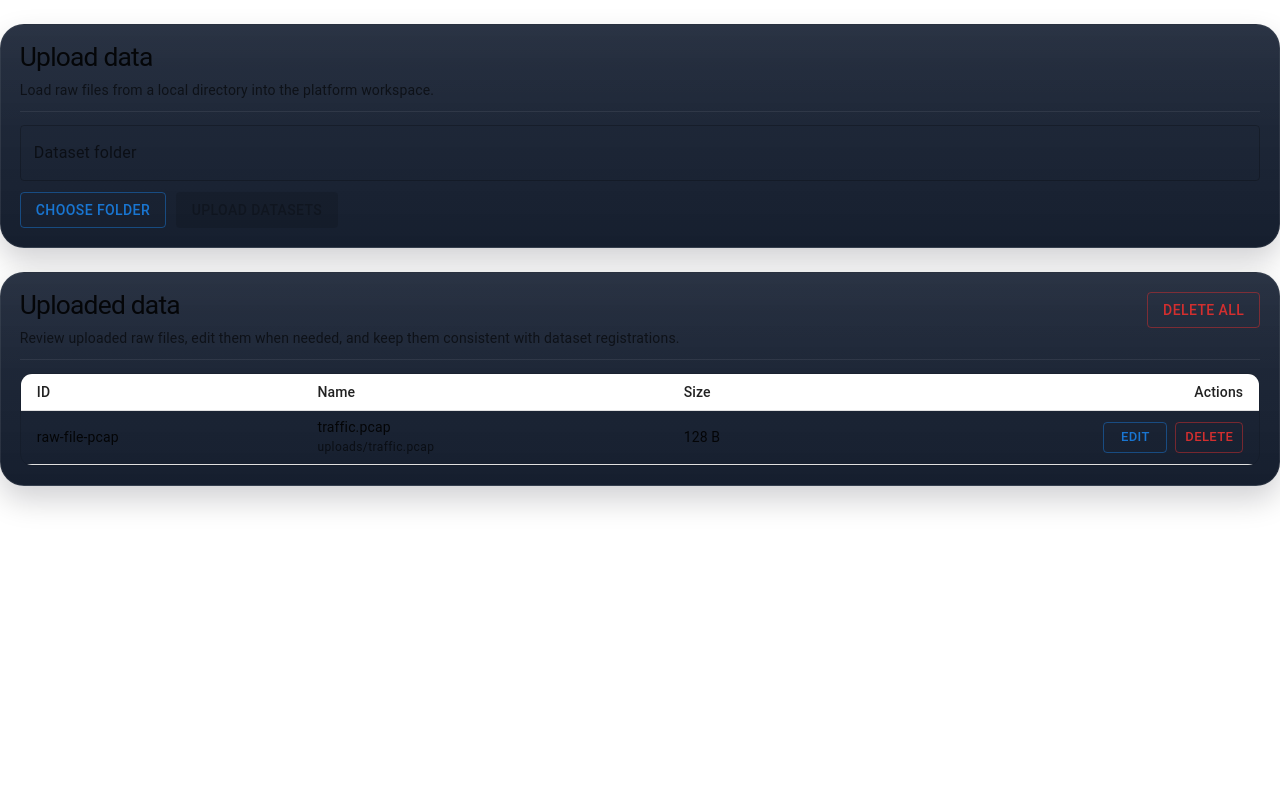
Test: DatasetsPage › opens a read-only editor for pcap files
The image size is (1280, 800).
What coordinates should you click on to do the following:
click the button "Edit"
I would click on:
 (1135, 437)
Its box is x1=1103 y1=422 x2=1167 y2=453.
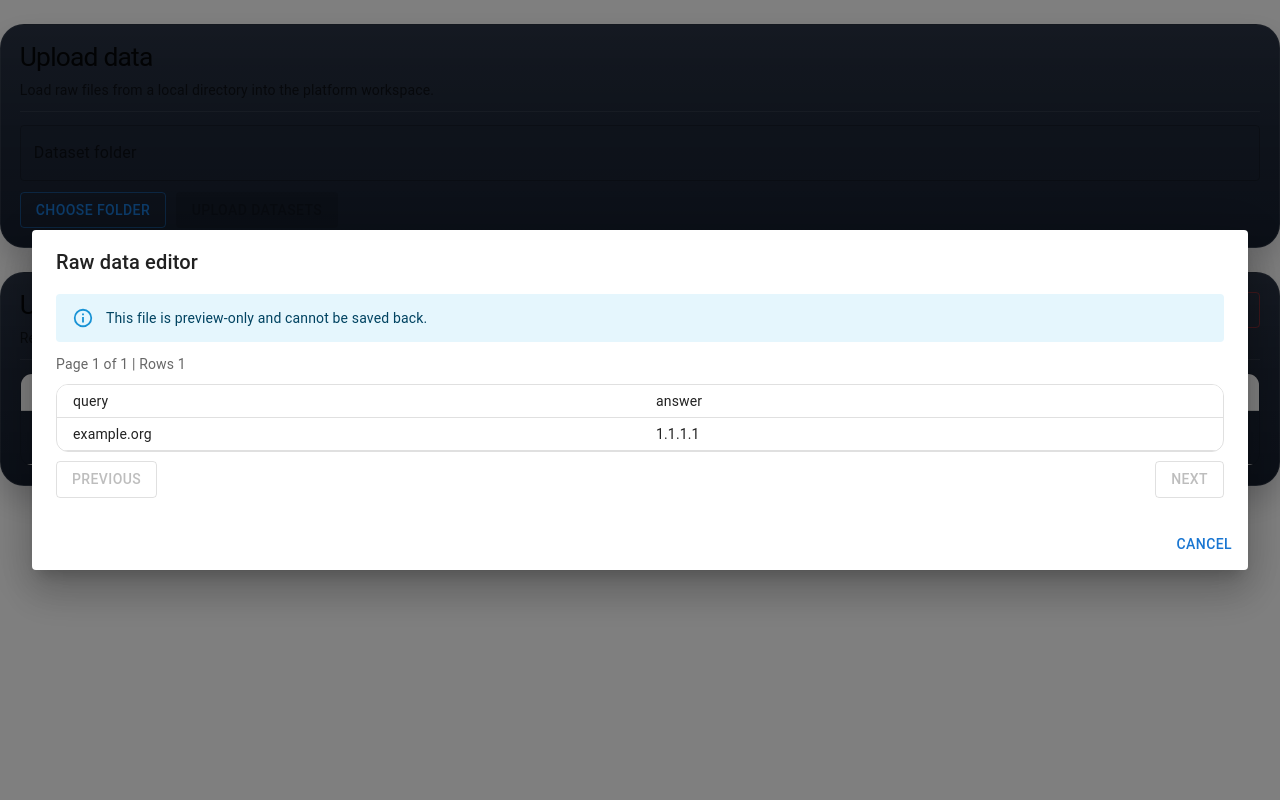
Expected: the text "This file is preview-only and cannot be saved back." is shown, x1=106 y1=310 x2=427 y2=326
